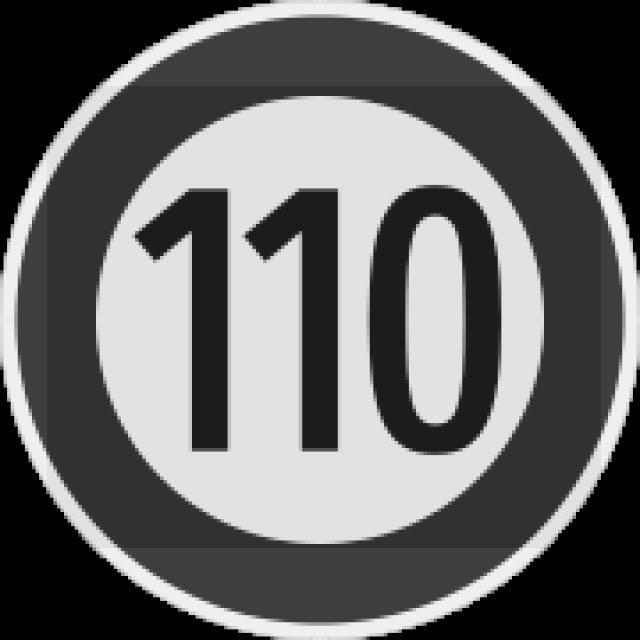speed limit 100: (16, 20, 617, 613)
